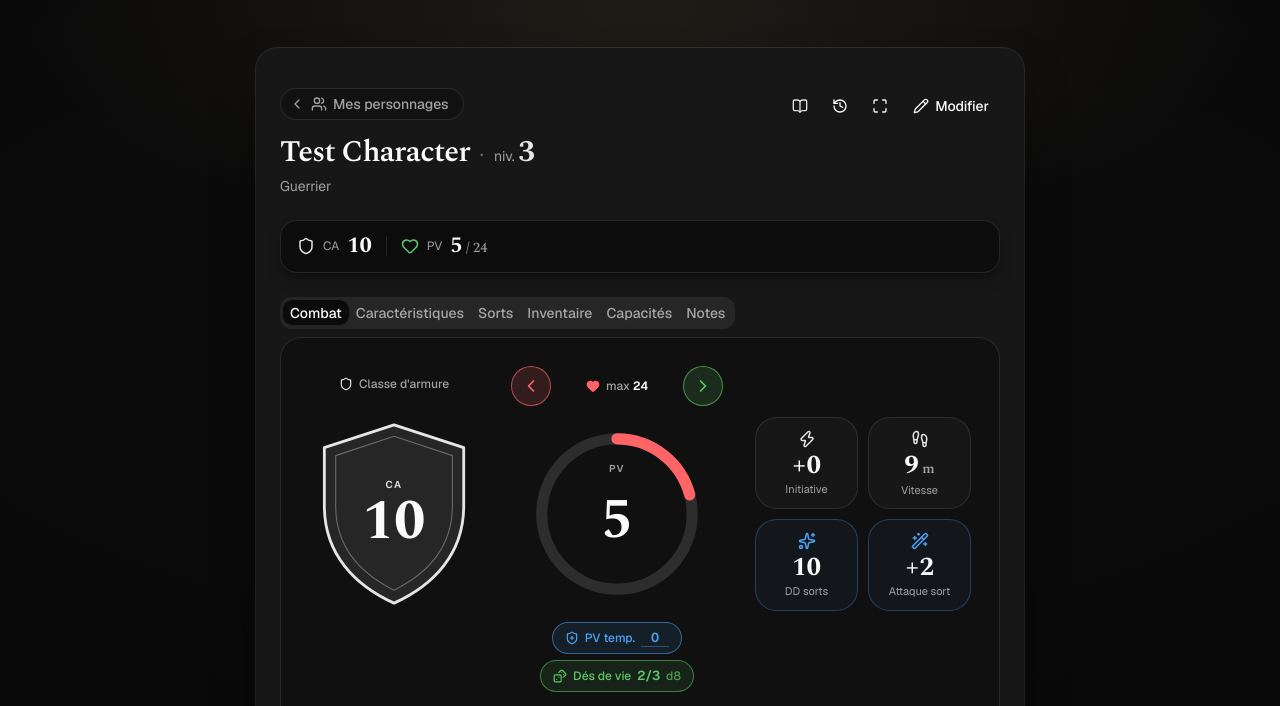
Test: RestActions (via CharacterPlay) › spends hit dice during a short rest, from the hit dice chip
Expected: the heading "Test Character" is shown, [280,134,470,170]
Click the button with aria-label "Dés de vie : 2 sur 3 (d8)" at (617, 676), box [540,660,694,692]
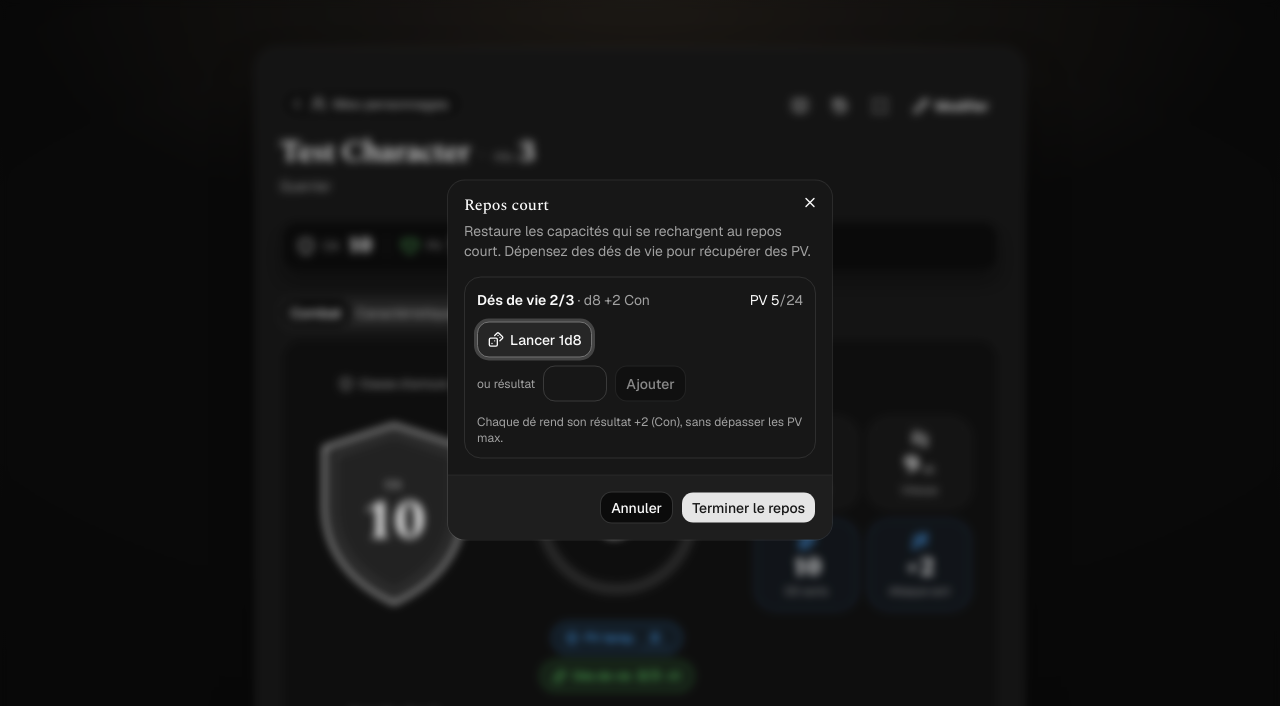
Type "6" into the number field labelled "ou résultat" at (575, 384), box [543,366,607,402]
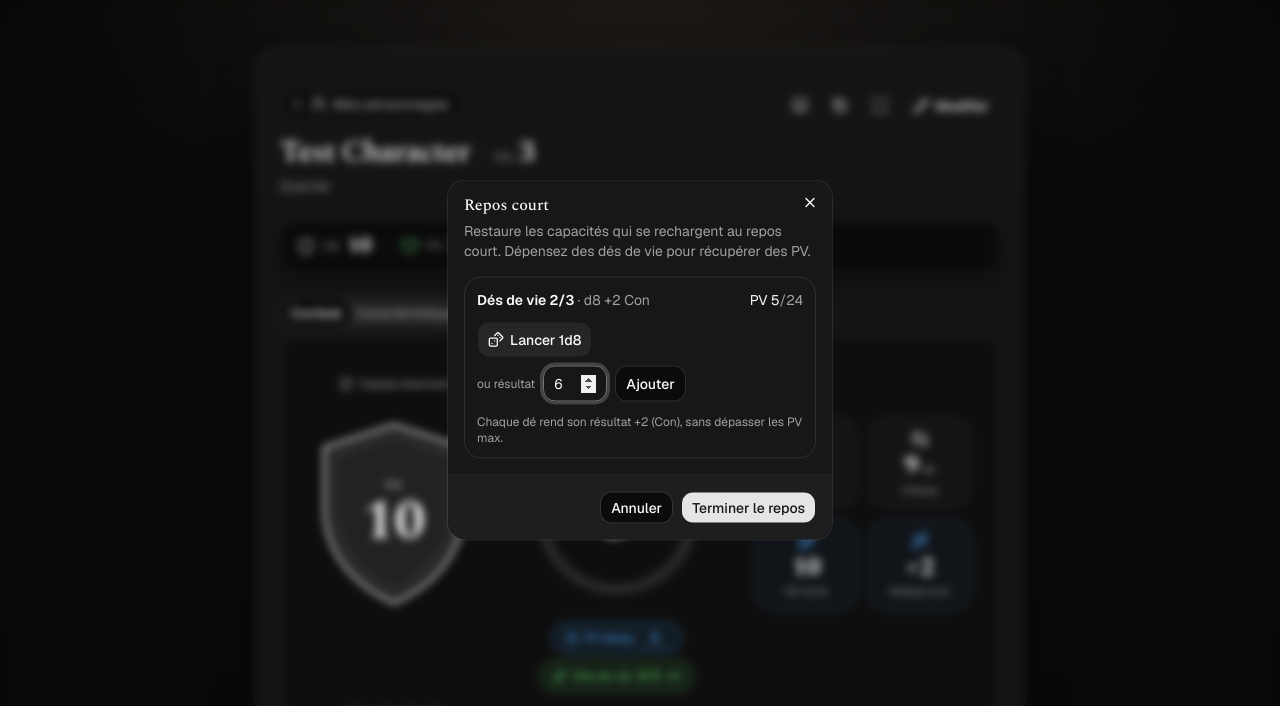
Click the button "Ajouter" at (650, 384), box [615,366,686,402]
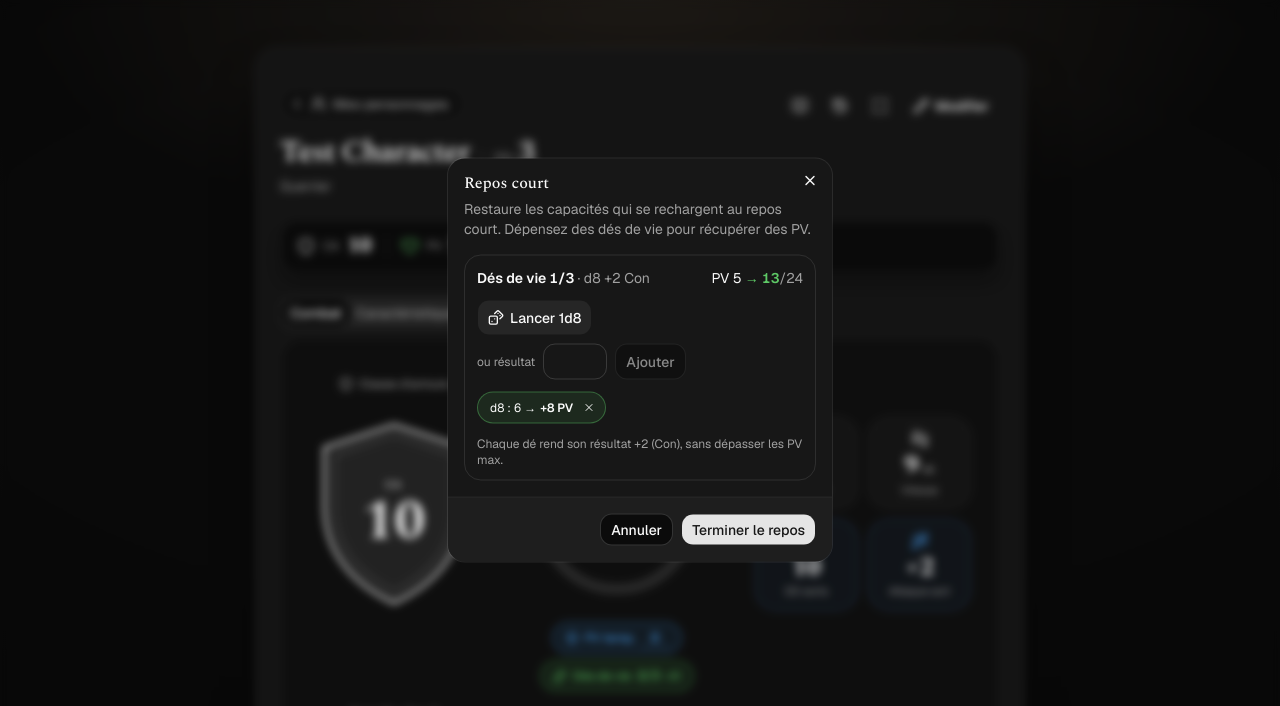
Now the text "+8 PV" is shown, box [540,400,573,416]
Now the element named "Points de vie après le repos" reads "PV 5 → 13/24", box [712,268,803,288]
Deuxième dé ajouté puis retiré : il n'est pas dépensé.
Click the button "Lancer 1d8" at (535, 318), box [477,300,592,336]
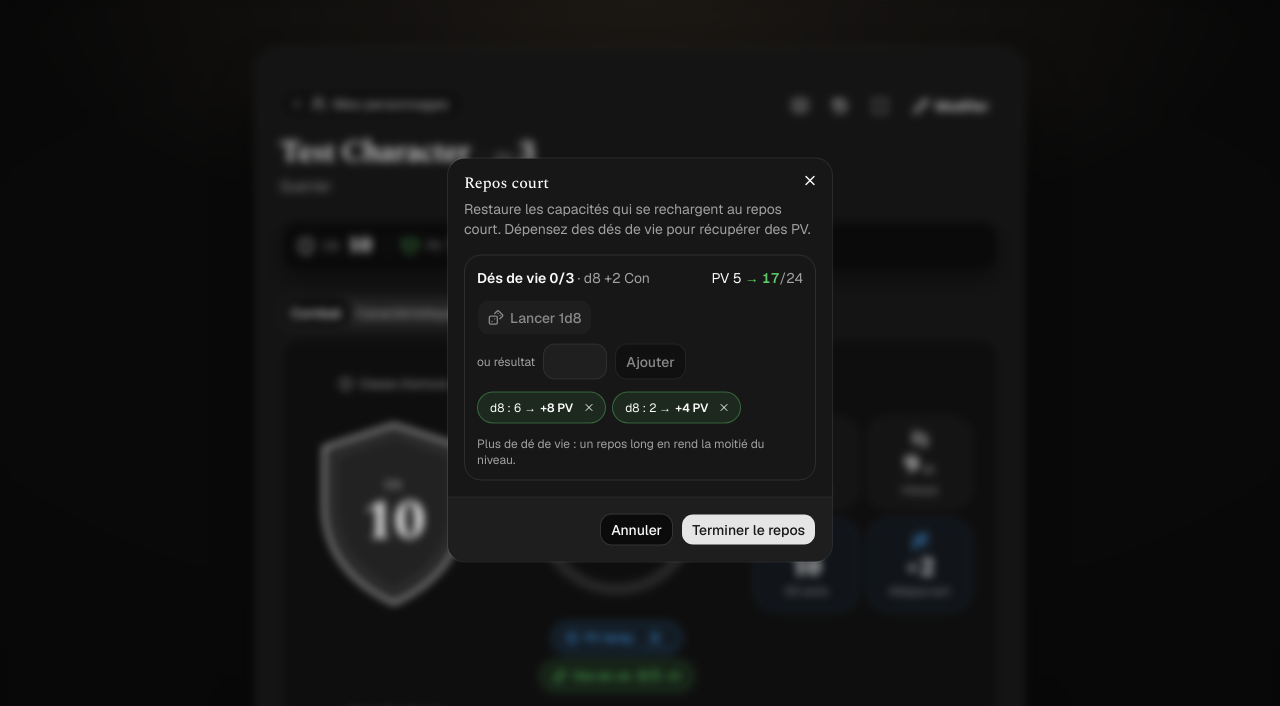
Click the button named "Retirer le dé 2" at (724, 408), box [712,396,736,420]
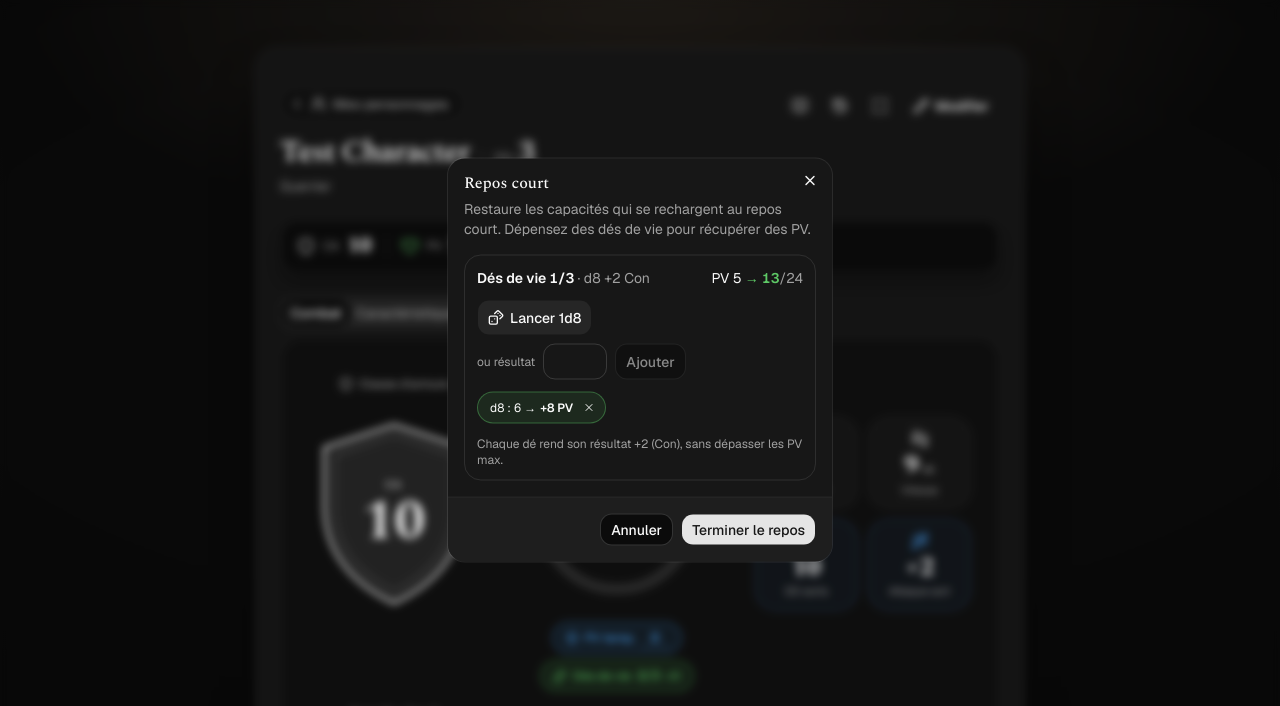
Now the button "Lancer 1d8" is enabled, box [477,300,592,336]
Click the button "Terminer le repos" at (749, 530), box [681,514,816,546]
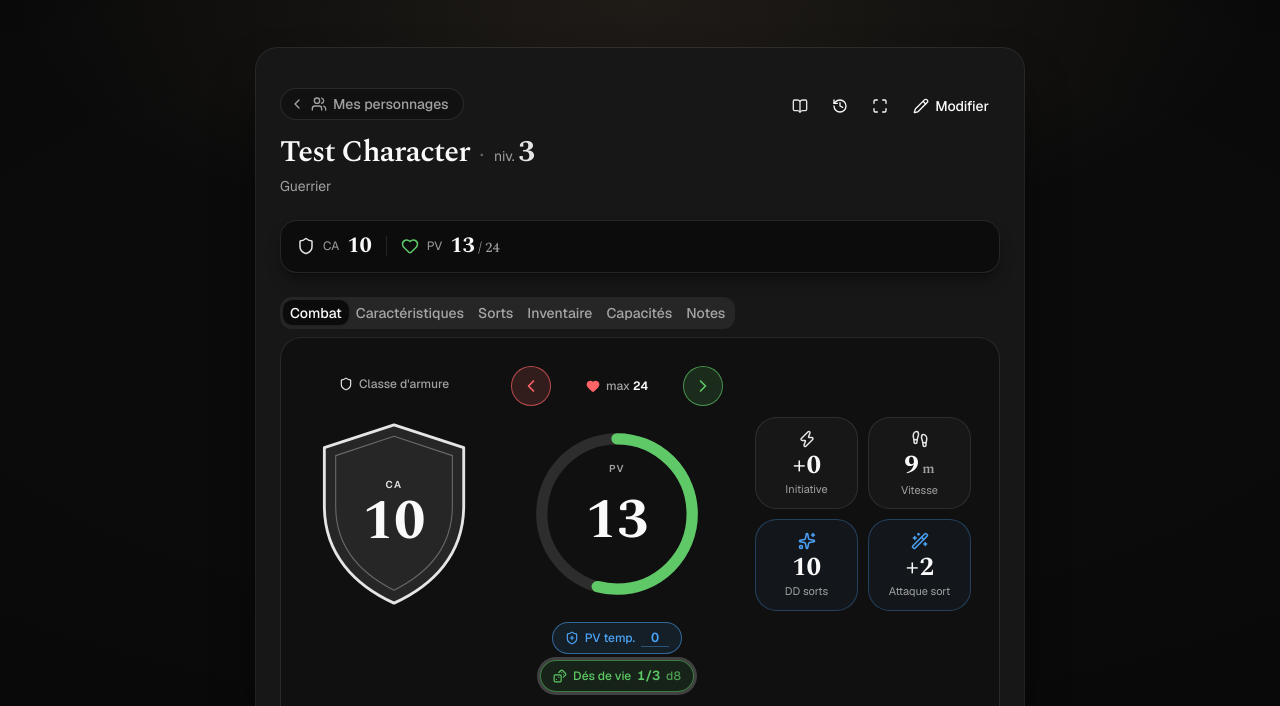
Now the button with aria-label "Dés de vie : 1 sur 3 (d8)" is shown, box [540,660,694,692]
